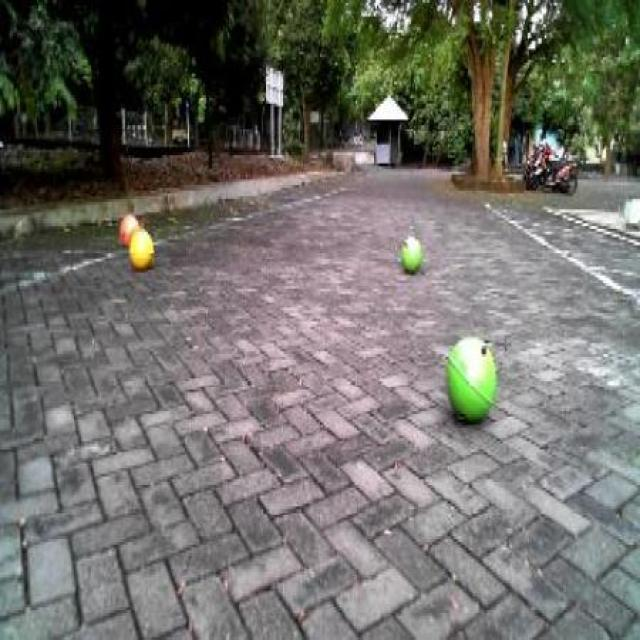buoy: (437, 321, 505, 438), (123, 222, 160, 276), (395, 228, 427, 281), (114, 202, 138, 247)
